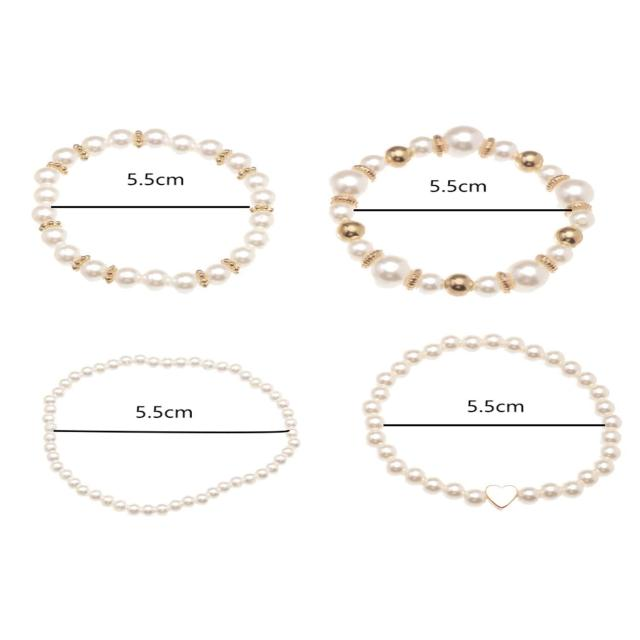bracelet: (295, 79, 620, 327), (0, 306, 341, 538), (0, 73, 303, 302), (318, 308, 640, 520)
